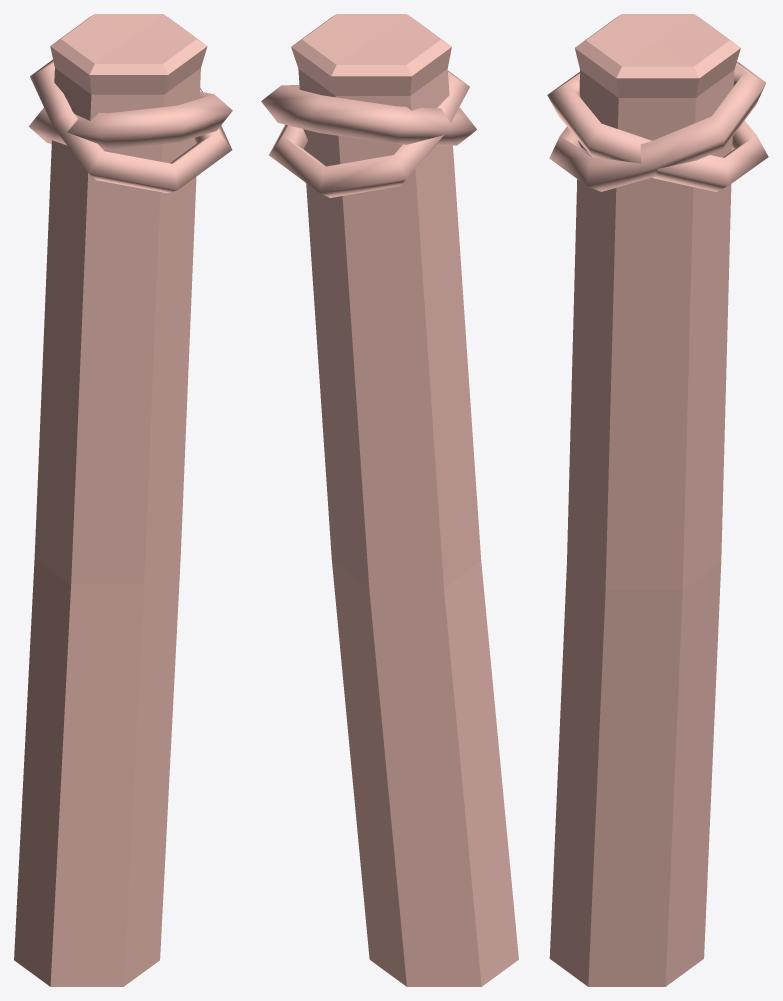
Rendered from Mega_Asset_s_Pack_Cylinder_034.FBX.
3 renders of one model, left to right at view 1: azimuth 30°, elevation 25°; view 2: azimuth 150°, elevation 25°; view 3: azimuth 270°, elevation 25°, orthographic. The views are drawn at different scales.
Visible parts, largest first — view 1: Mega_Asset_s_Pack_Cylinder_034; view 2: Mega_Asset_s_Pack_Cylinder_034; view 3: Mega_Asset_s_Pack_Cylinder_034.
Part boxes in pixels (left/top/right/bottom): Mega_Asset_s_Pack_Cylinder_034: left=14, top=14, right=232, bottom=986; Mega_Asset_s_Pack_Cylinder_034: left=261, top=14, right=518, bottom=986; Mega_Asset_s_Pack_Cylinder_034: left=547, top=14, right=768, bottom=986.
Size of what is drawn, in the model's own units: 35.04 by 33.26 by 157.
